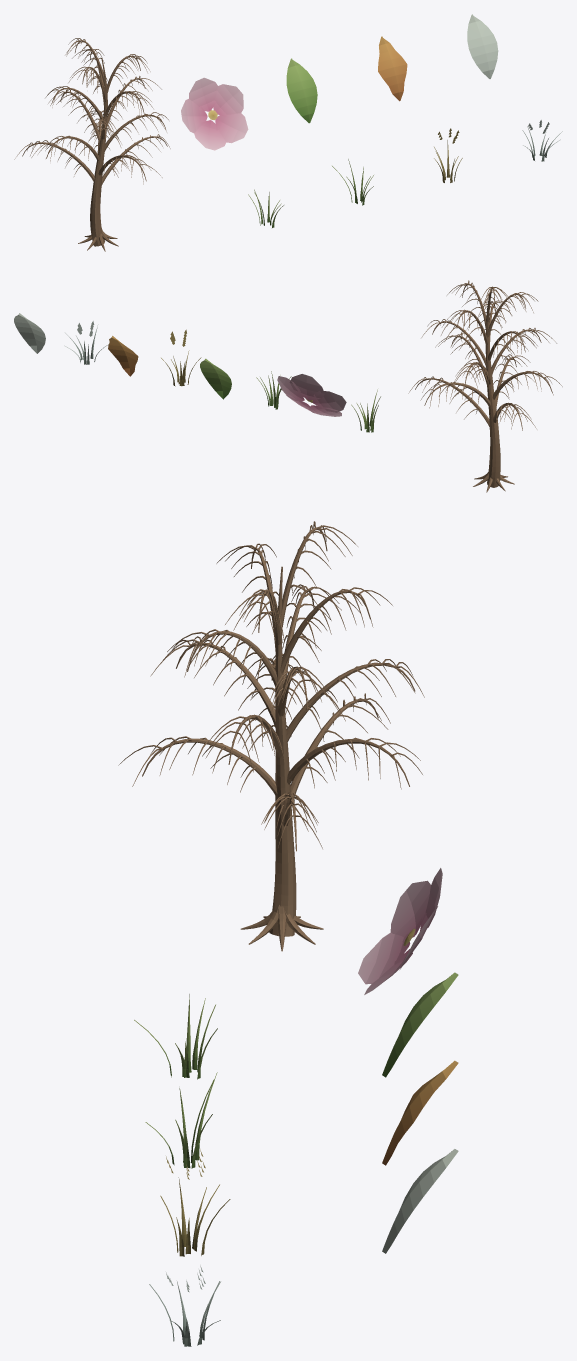
The model's file is botanical-kit.glb.
3 renders of one model, top to bottom at view 1: azimuth 30°, elevation 25°; view 2: azimuth 150°, elevation 25°; view 3: azimuth 270°, elevation 25°, orthographic. The views are drawn at different scales.
Parts seen in each view (by area): view 1: Branch / curved scaffold, Spring / five cupped petals, Summer / folded serrated leaf, Winter / frost coated leaf, Autumn / curled copper leaf, Autumn / dry seed heads, Winter / frost sedge, Summer / meadow tuft, Spring / tender grass; view 2: Branch / curved scaffold, Spring / five cupped petals, Summer / folded serrated leaf, Winter / frost coated leaf, Autumn / curled copper leaf, Winter / frost sedge, Autumn / dry seed heads, Spring / tender grass, Summer / meadow tuft; view 3: Branch / curved scaffold, Spring / five cupped petals, Summer / folded serrated leaf, Winter / frost coated leaf, Autumn / curled copper leaf, Autumn / dry seed heads, Spring / tender grass.
Part boxes in pixels (left/top/right/bottom): Branch / curved scaffold: left=14, top=38, right=170, bottom=251; Spring / five cupped petals: left=181, top=77, right=248, bottom=150; Summer / folded serrated leaf: left=286, top=58, right=317, bottom=123; Winter / frost coated leaf: left=467, top=14, right=498, bottom=78; Autumn / curled copper leaf: left=378, top=36, right=407, bottom=101; Autumn / dry seed heads: left=434, top=128, right=462, bottom=182; Winter / frost sedge: left=522, top=120, right=562, bottom=161; Summer / meadow tuft: left=332, top=159, right=373, bottom=205; Spring / tender grass: left=248, top=189, right=283, bottom=227; Branch / curved scaffold: left=408, top=280, right=562, bottom=492; Spring / five cupped petals: left=277, top=374, right=346, bottom=416; Summer / folded serrated leaf: left=200, top=358, right=231, bottom=399; Winter / frost coated leaf: left=14, top=313, right=45, bottom=353; Autumn / curled copper leaf: left=108, top=336, right=138, bottom=376; Winter / frost sedge: left=64, top=321, right=108, bottom=364; Autumn / dry seed heads: left=161, top=329, right=201, bottom=386; Spring / tender grass: left=351, top=389, right=380, bottom=432; Summer / meadow tuft: left=256, top=371, right=291, bottom=409; Branch / curved scaffold: left=118, top=521, right=424, bottom=951; Spring / five cupped petals: left=358, top=868, right=442, bottom=994; Summer / folded serrated leaf: left=382, top=972, right=458, bottom=1077; Winter / frost coated leaf: left=382, top=1149, right=458, bottom=1253; Autumn / curled copper leaf: left=382, top=1060, right=458, bottom=1165; Autumn / dry seed heads: left=160, top=1149, right=230, bottom=1256; Spring / tender grass: left=134, top=994, right=217, bottom=1079.
Bounding box in the file's own units: 8.65 × 3.3 × 2.53.
